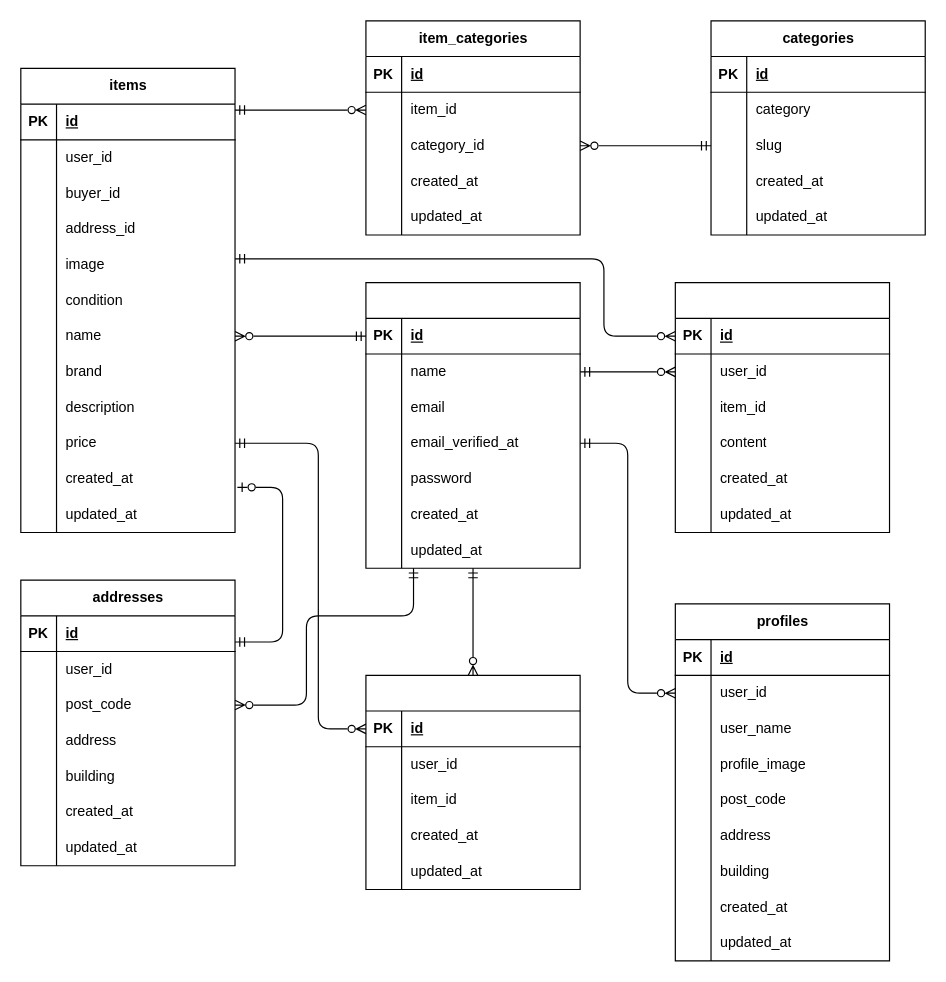
The diagram is 946 pixels wide and 982 high, and some of its shapes have lost their labels. The shapes that lost their labels are listed below. From the top down, each one's box as (x1, y1, x2, y2) in pixels, then its label:
(365, 281, 580, 568): users
(674, 281, 890, 533): comments
(365, 674, 580, 890): likes
